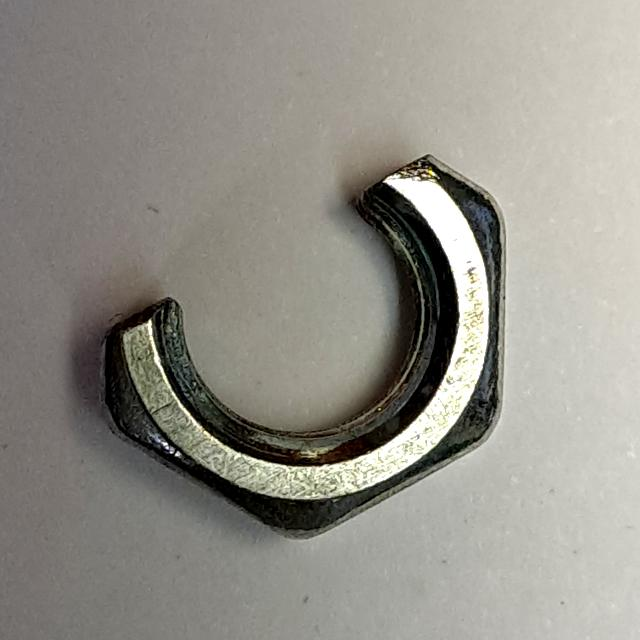Fracture: (83, 134, 514, 550)
